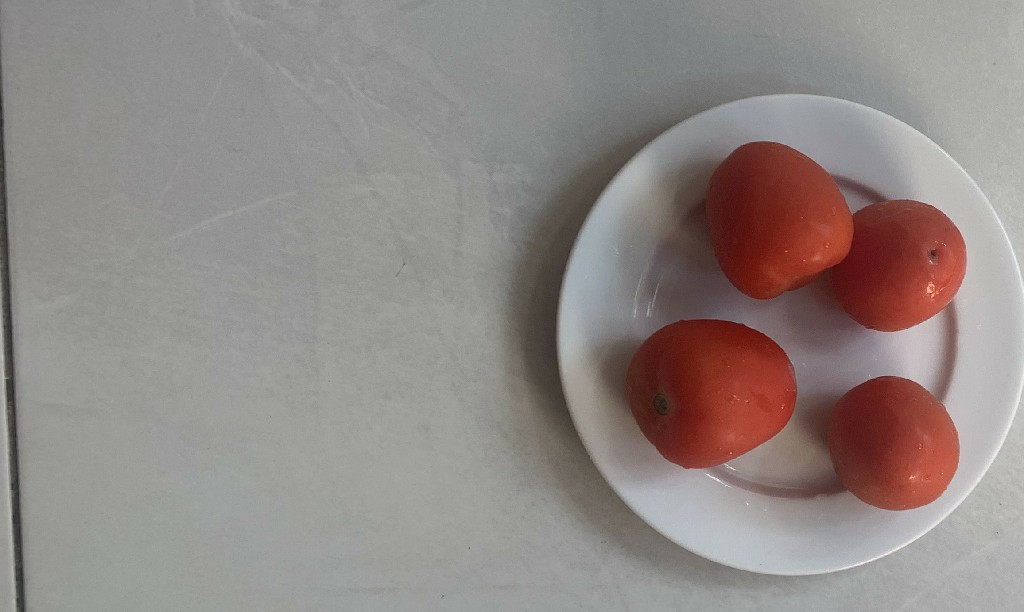OK: (624, 312, 807, 475), (699, 134, 852, 309), (832, 194, 971, 344), (822, 368, 952, 517)
